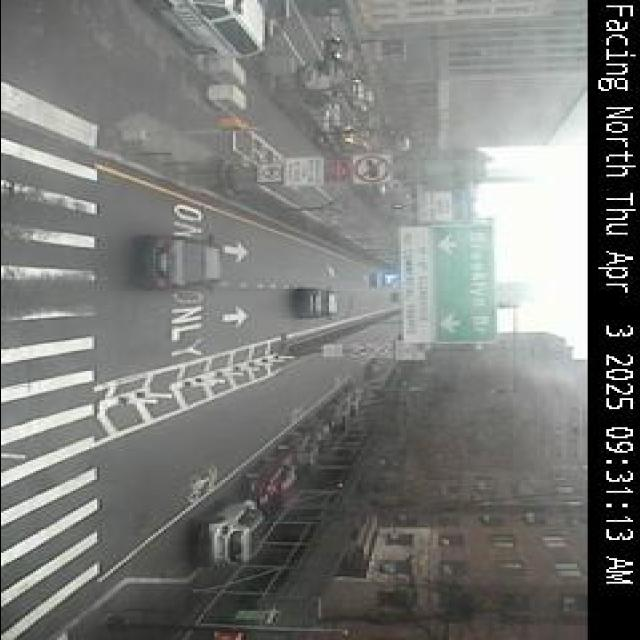open parking: (79, 458, 285, 618)
